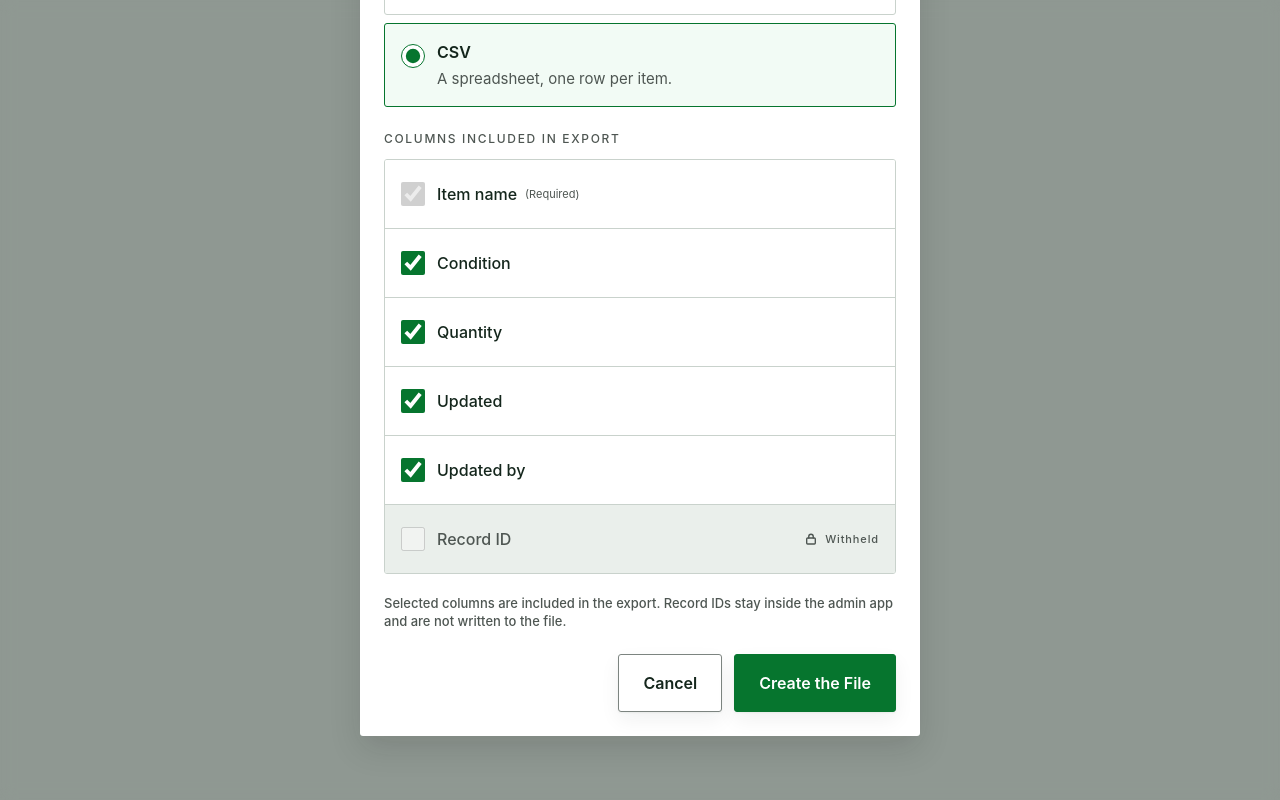
Test case: S-07 Milestone M2 Challenger Adversarial Stress Suite › Seam 2: F-05 & F-06 In-Flight Locking, Rapid Multi-Clicks & Concurrent Submissions › Attack 2.7: ExportDialog radio format switching is disabled while generation is in flight
(page scrolled)
Click the button "Create the File".
click(815, 684)  # box x1=734 y1=654 x2=896 y2=712
(page scrolled)
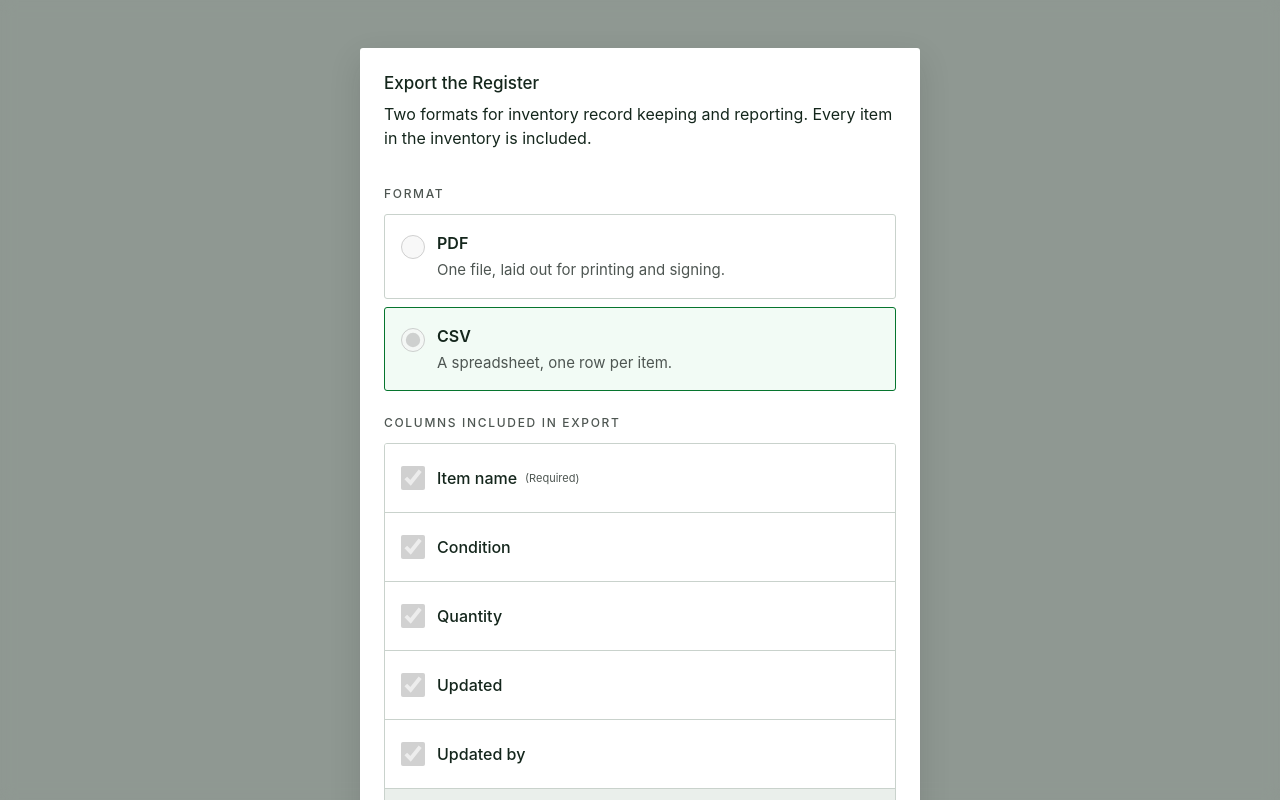
Click the radio button labelled "PDF One file, laid out for printing and signing.".
click(413, 247)  # box x1=401 y1=235 x2=425 y2=259
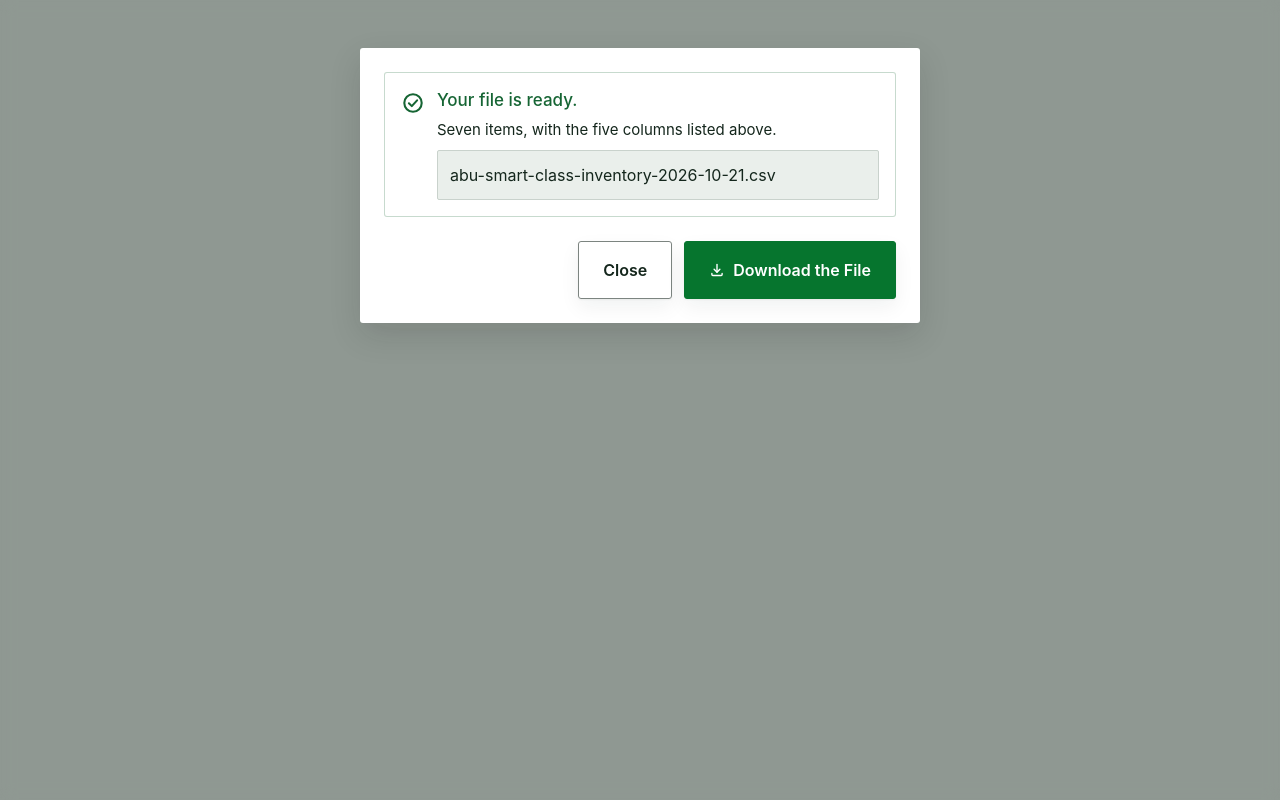
Result: the heading "Your file is ready." is shown at x1=437 y1=90 x2=577 y2=110
